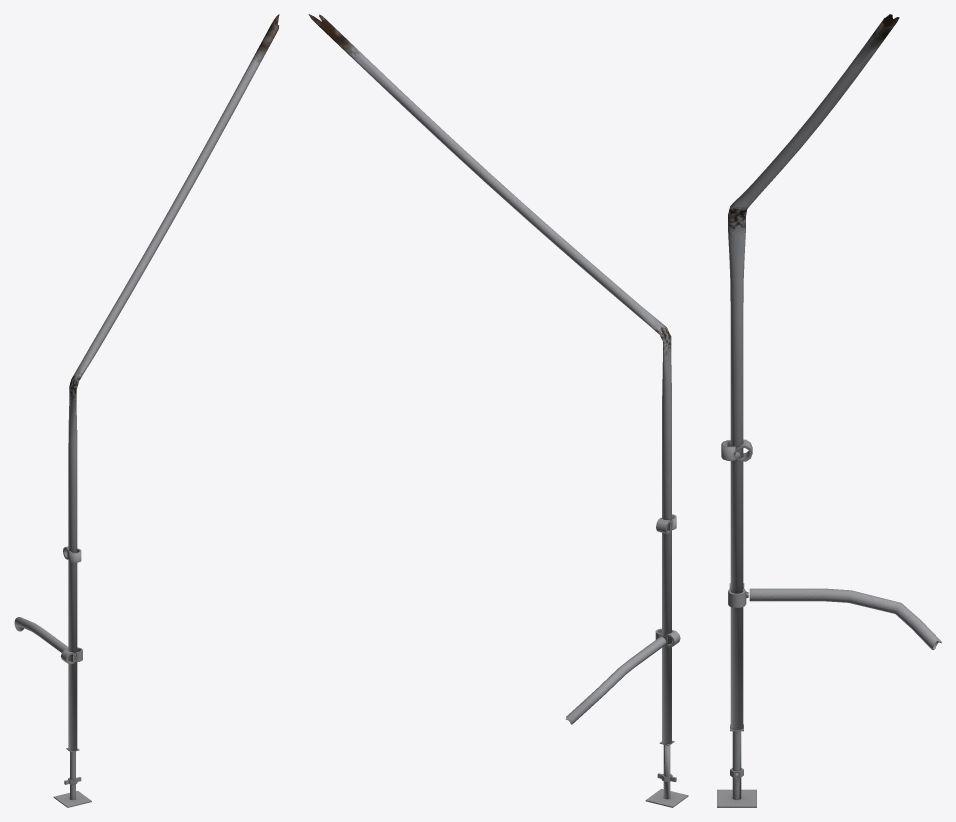
File: industrial_scaffold_pole_bent_lod1.glb
3 views of the same model, side by side, from view 1: azimuth 30°, elevation 25°; view 2: azimuth 150°, elevation 25°; view 3: azimuth 270°, elevation 25° (orthographic). The views are drawn at different scales.
Visible parts, largest first — view 1: industrial_scaffold_pole_bent_paint; view 2: industrial_scaffold_pole_bent_paint; view 3: industrial_scaffold_pole_bent_paint.
Boxes of the visible parts, bbox=[...] form: industrial_scaffold_pole_bent_paint: bbox=[14, 14, 279, 807]; industrial_scaffold_pole_bent_paint: bbox=[308, 14, 688, 807]; industrial_scaffold_pole_bent_paint: bbox=[717, 14, 941, 807].
Size of the model in its own units: 1.7 by 4.01 by 0.8466.
1 material, 1 textured.
